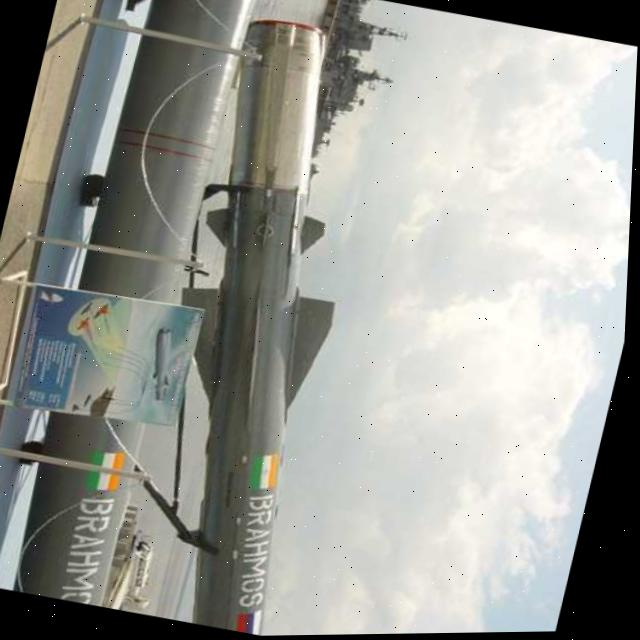missile: (115, 10, 419, 638), (0, 0, 284, 615)
